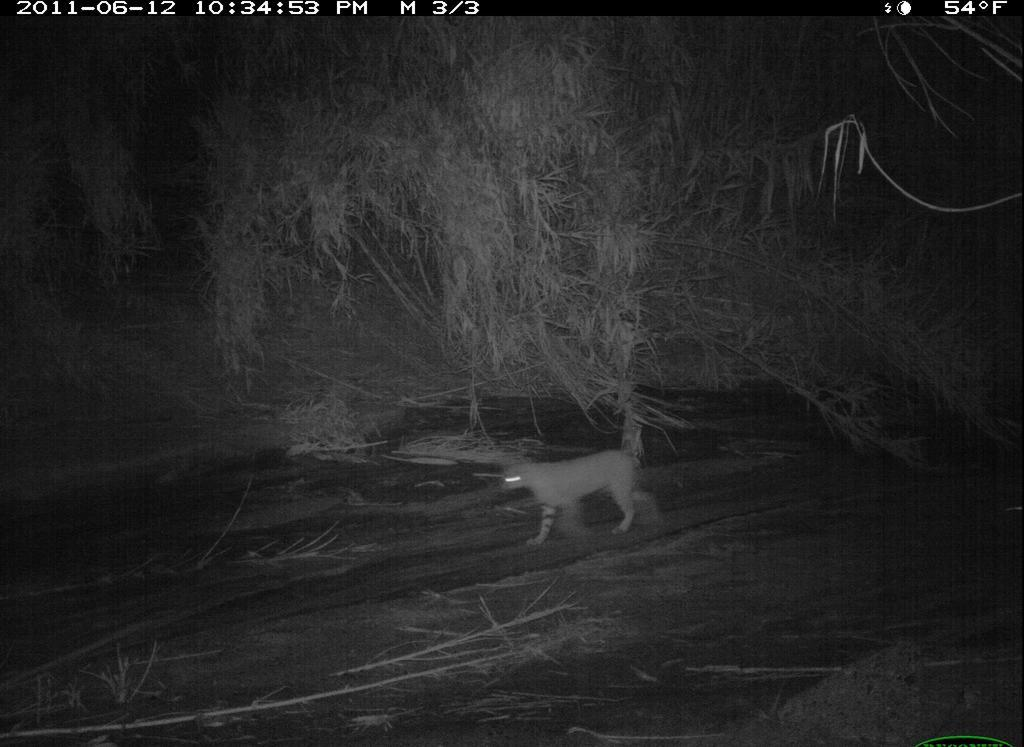bobcat: (492, 442, 656, 553)
